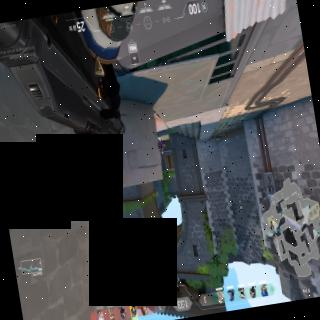ENEMY-BODY: (158, 135, 165, 154)
ENEMY-HEAD: (162, 150, 164, 154)
